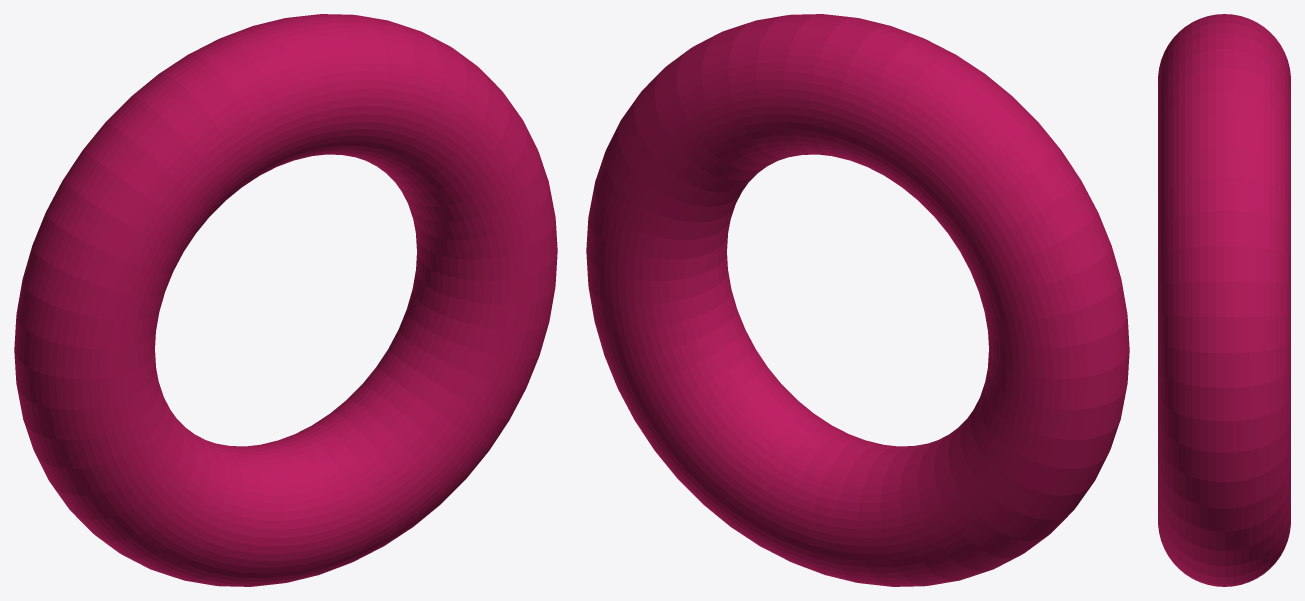
3 views of the same model, side by side, from view 1: azimuth 30°, elevation 25°; view 2: azimuth 150°, elevation 25°; view 3: azimuth 270°, elevation 25° (orthographic). The views are drawn at different scales.
Parts seen in each view (by area): view 1: world; view 2: world; view 3: world.
Boxes of the visible parts, box(x1,y1,x2,y2) form: world: box(14, 14, 557, 586); world: box(586, 14, 1129, 586); world: box(1158, 14, 1290, 586).
Size of the model in its own units: 33.87 by 33.8 by 7.85.
